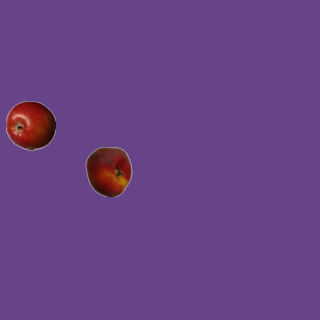Apple Braeburn: (5, 100, 55, 150)
Nectarine Flat: (83, 146, 133, 196)
